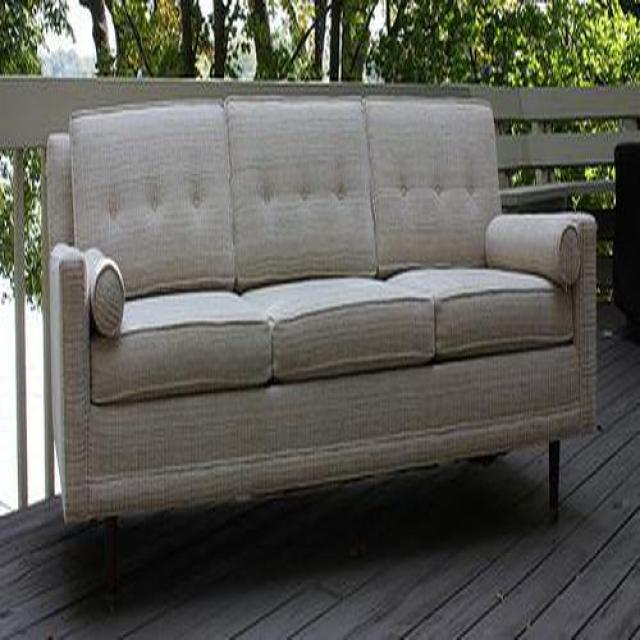sofa: (0, 77, 600, 604)
